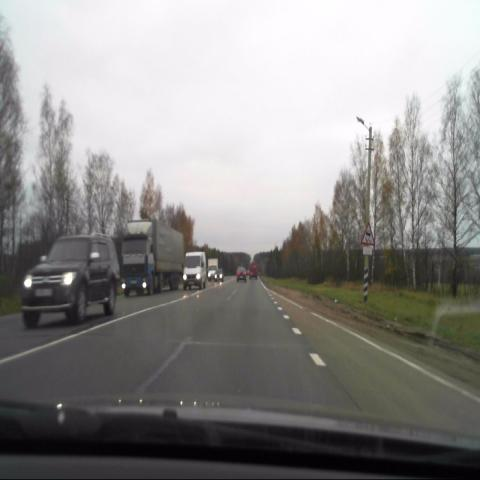1_15: (360, 222, 376, 246)
